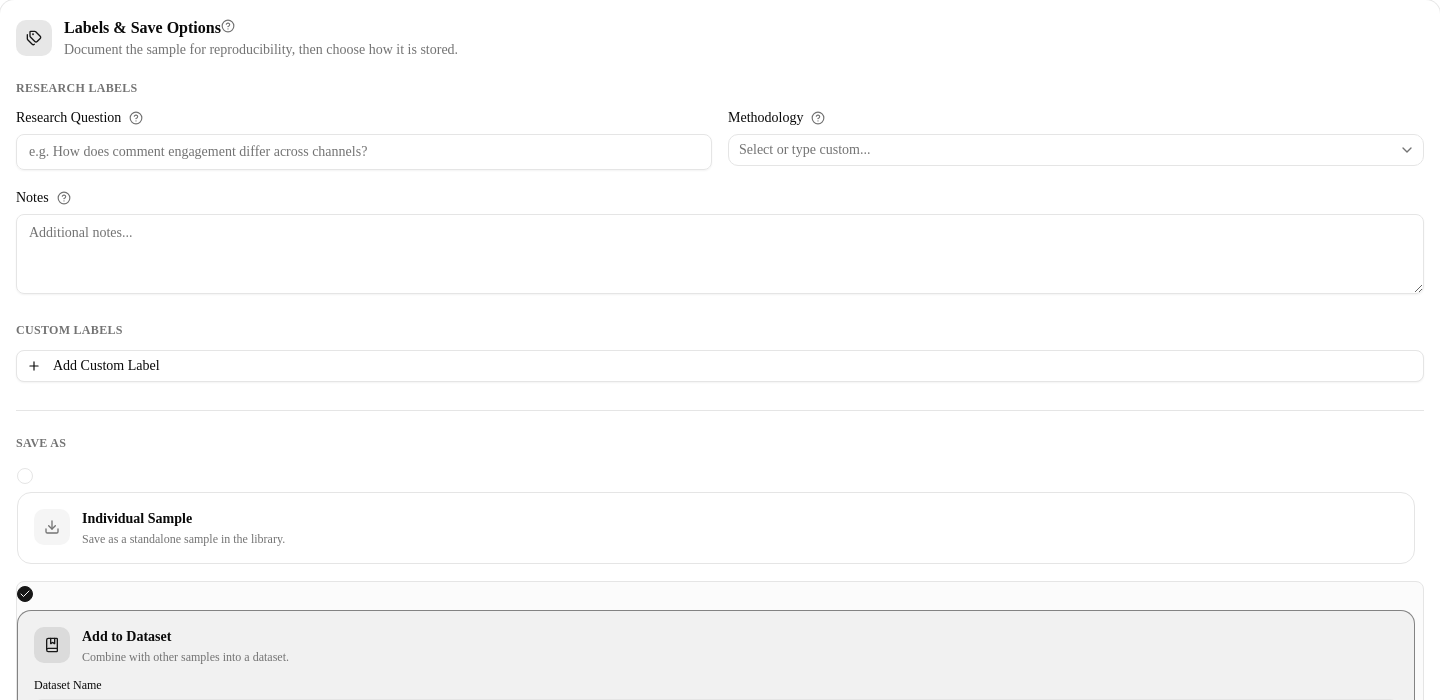
sampling: ResultActions › adds a custom label through the form
This screenshot has width=1440, height=700.
Click the button "Add Custom Label" at (106, 366), box x1=16 y1=350 x2=1424 y2=382
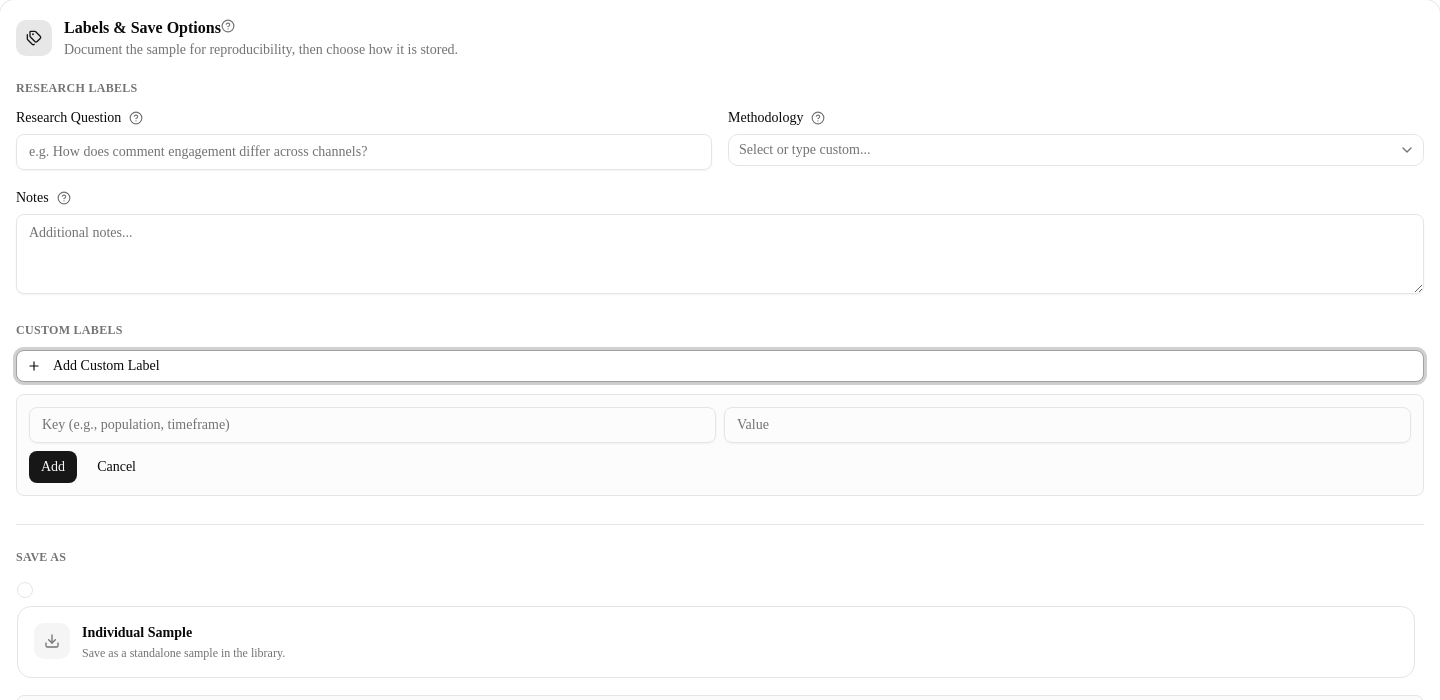
Type "timeframe" into the field with placeholder "Key (e.g., population, timeframe)" at (372, 425), box x1=29 y1=407 x2=716 y2=443
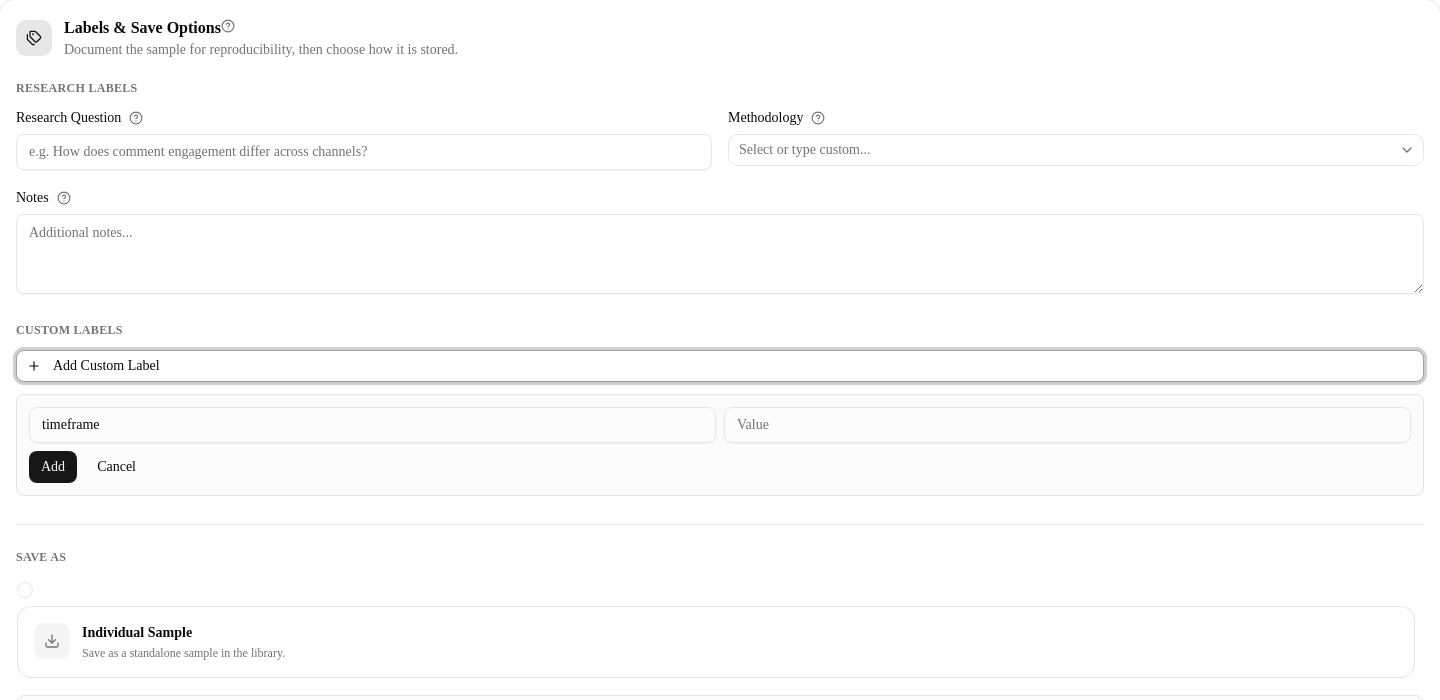
Type "Q1 2026" into the field with placeholder "Value" at (1068, 425), box x1=724 y1=407 x2=1411 y2=443
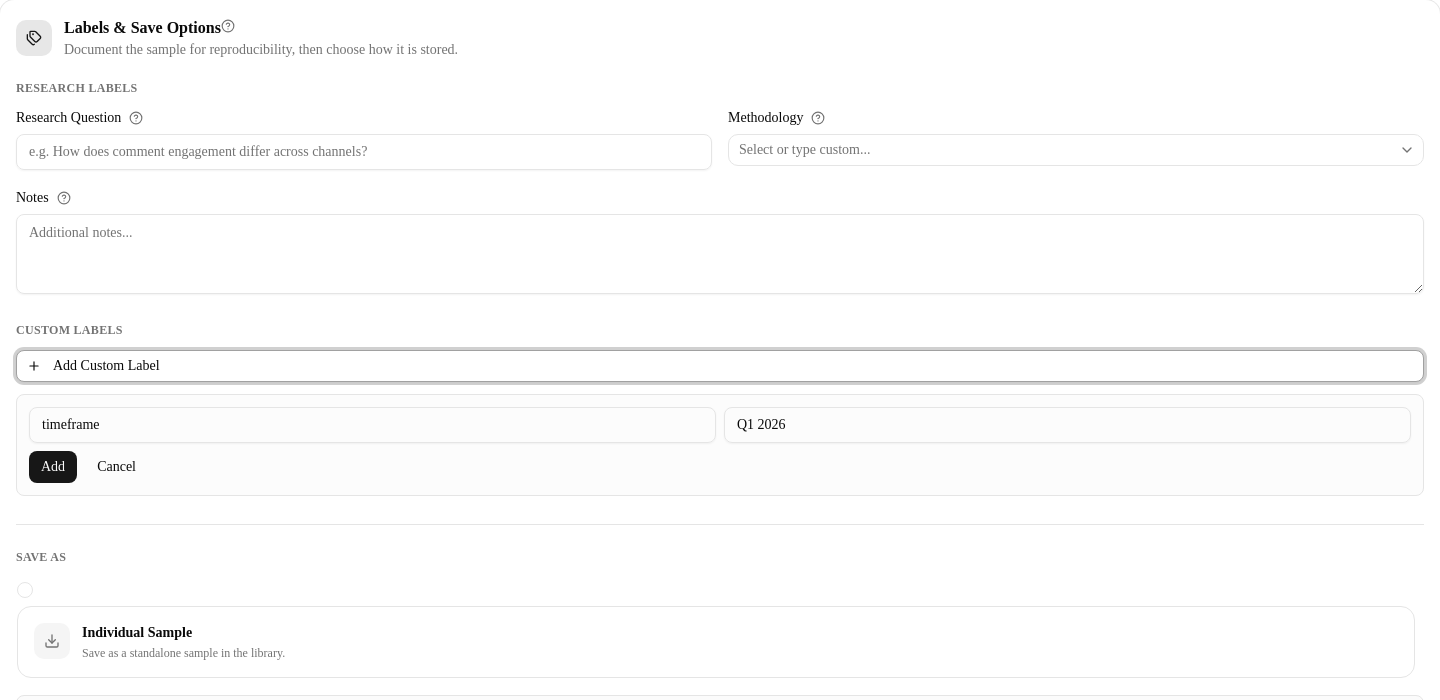
Click the button "Add" at (53, 467), box x1=29 y1=451 x2=77 y2=483
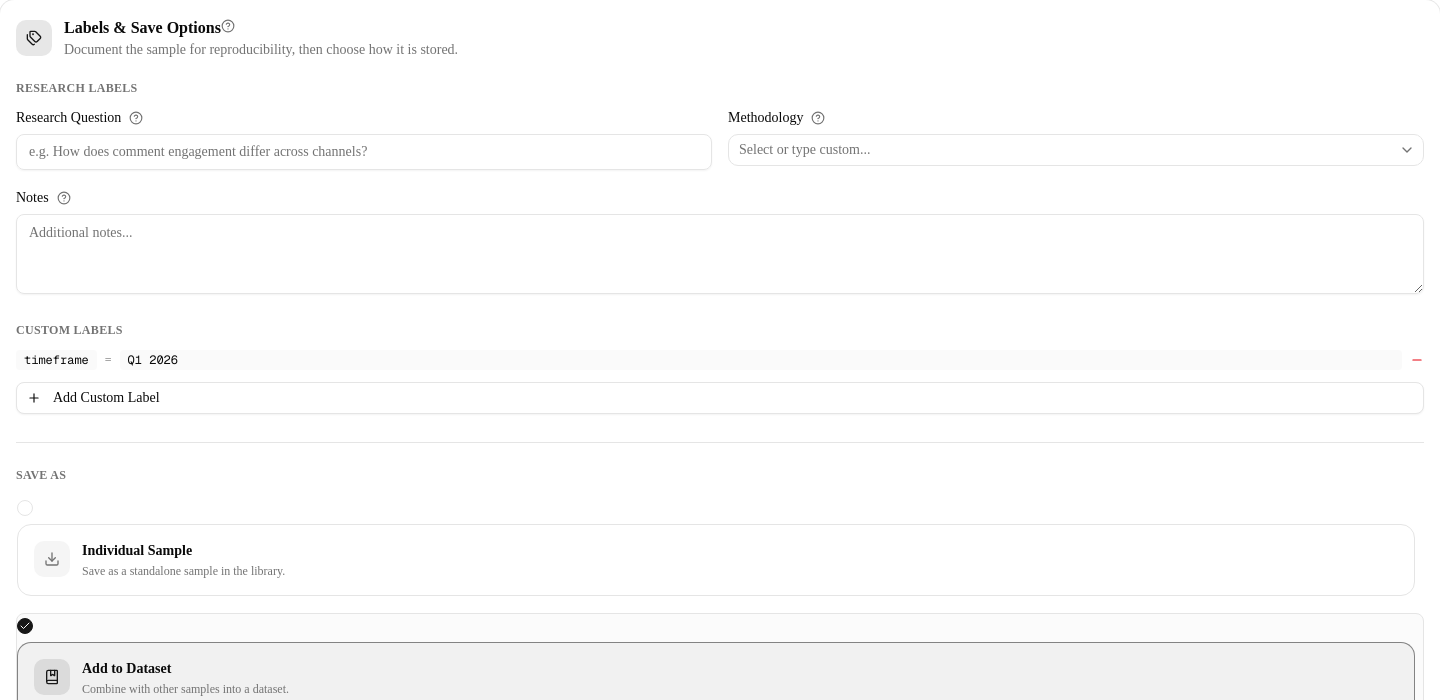
Check: the text "timeframe" is shown, box x1=16 y1=350 x2=97 y2=370
Check: the text "Q1 2026" is shown, box x1=120 y1=350 x2=1402 y2=370
